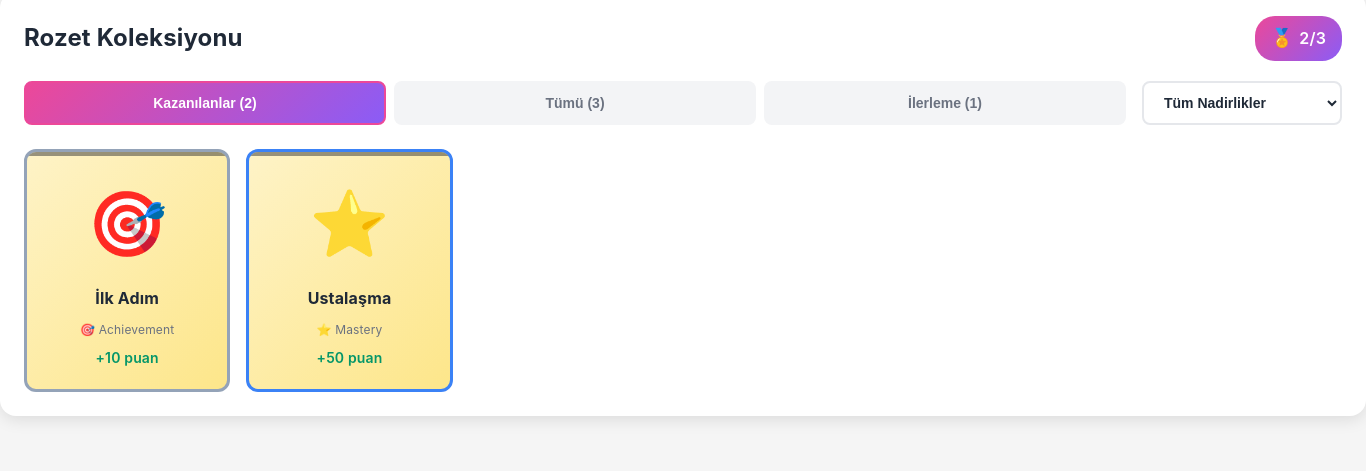
Test: BadgeCollection - View Modes › switches to progress view
Click the button "İlerleme (1)": (945, 103) [764, 81, 1126, 125]
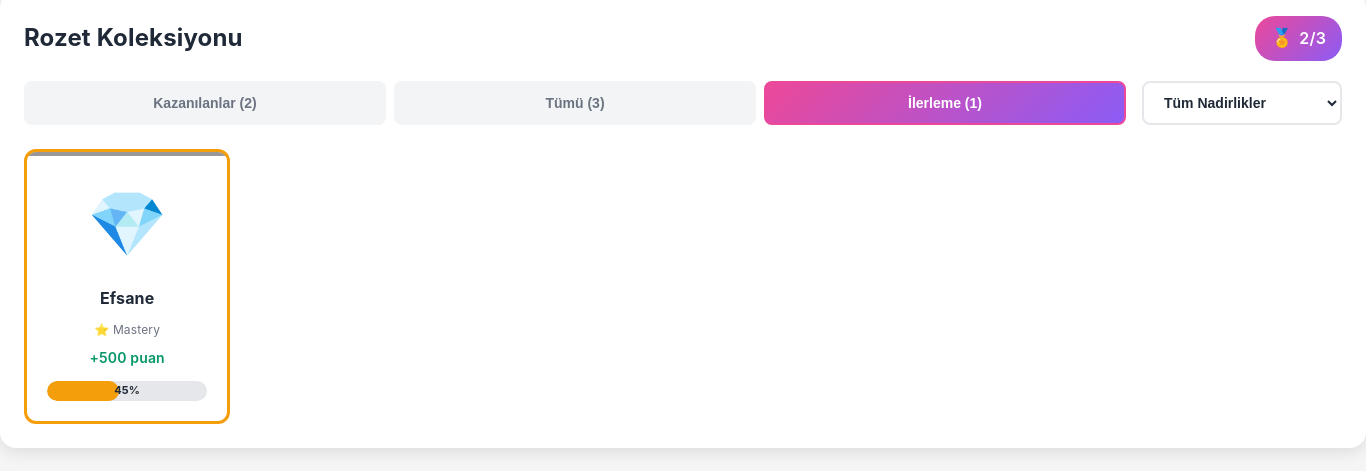
Check: the text "Efsane" is shown, box [100, 288, 154, 308]
Check: the text "45%" is shown, box [114, 383, 140, 400]
